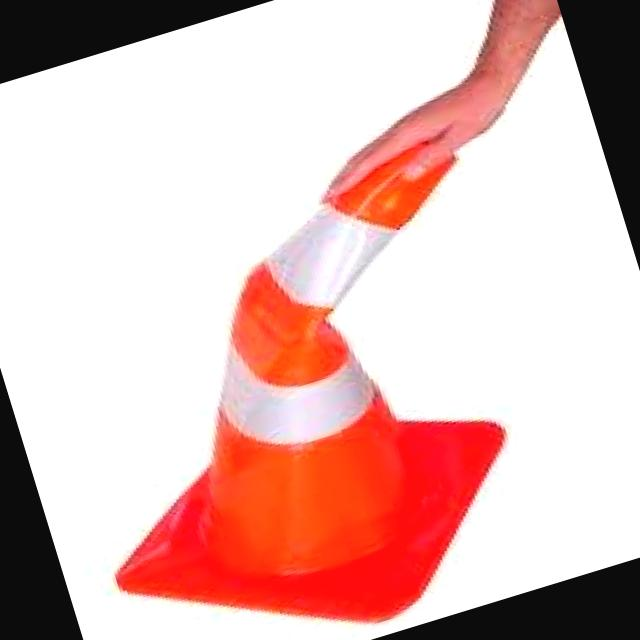cone: (90, 210, 494, 640)
